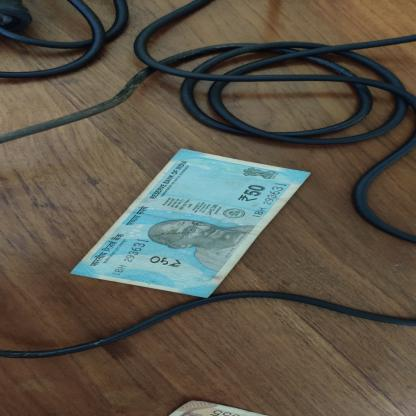New50Front: (62, 148, 314, 298)
